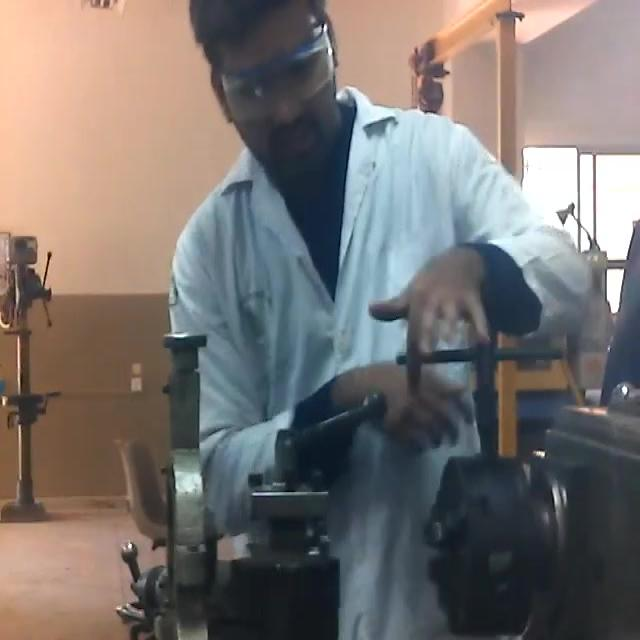googles: (210, 20, 339, 120)
labcoat: (165, 84, 596, 640)
